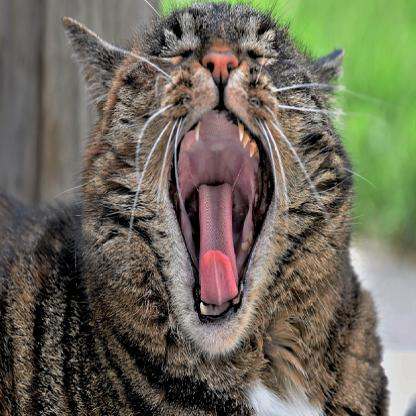cat: (0, 4, 388, 415)
